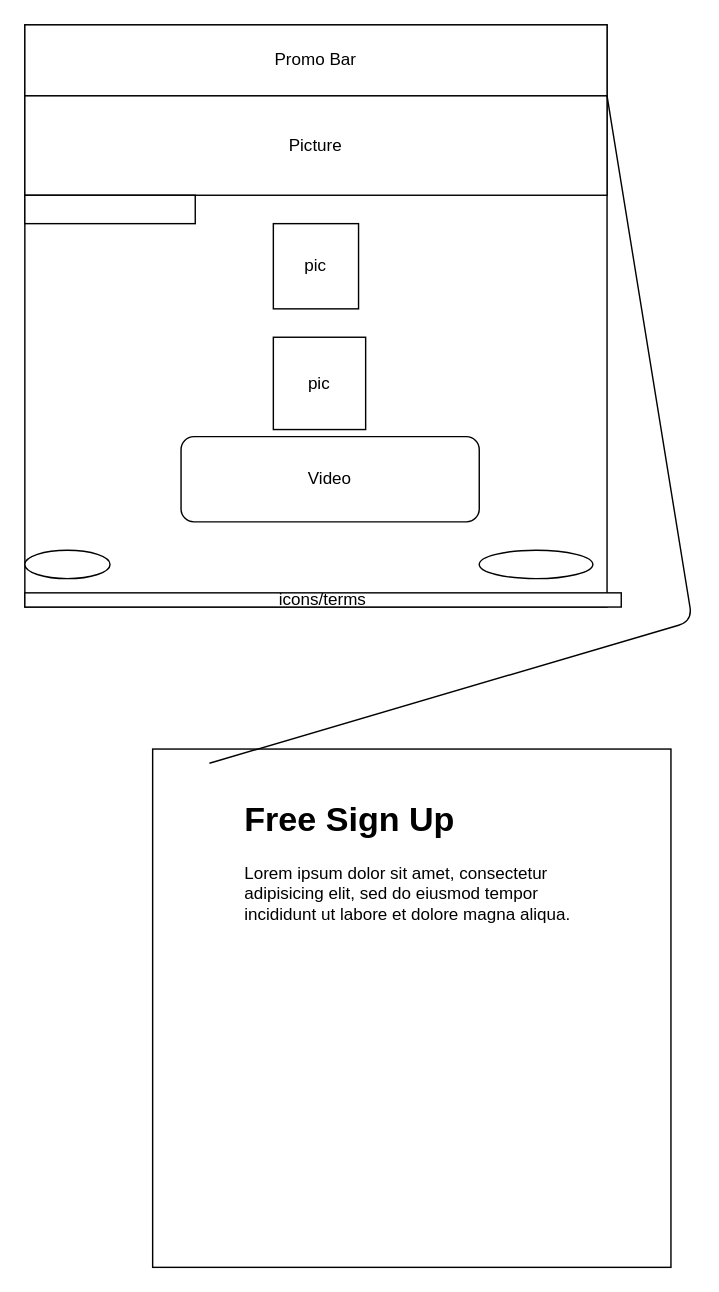
Some shapes in this 719 by 1292 pixel diagram are drawn without their labels. The box of each missing label's shape, as (x1, y1, x2, y2) in pixels:
nav: (23, 194, 195, 224)
review: (23, 549, 110, 579)
top: (478, 549, 593, 579)
